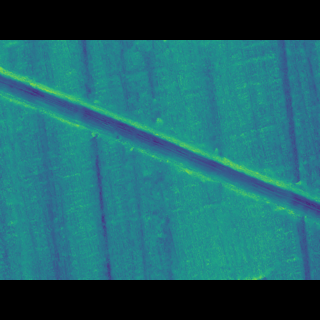Loch: (0, 88, 320, 213)
